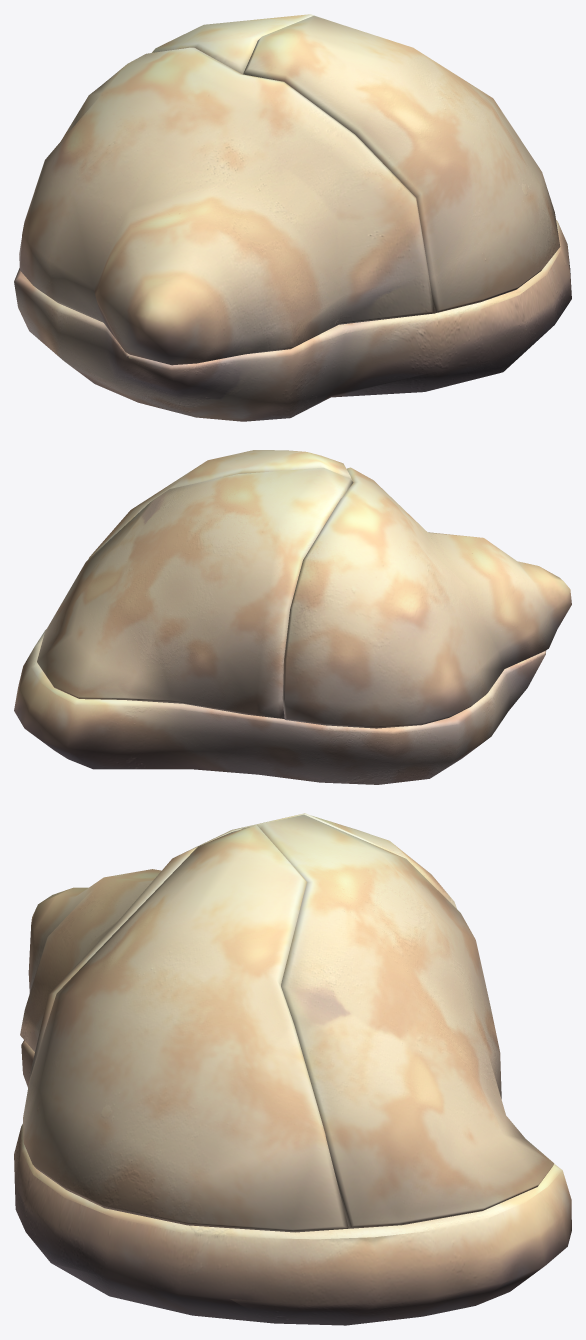
File: Shell.fbx
3 views of the same model, one above another, from view 1: azimuth 30°, elevation 25°; view 2: azimuth 150°, elevation 25°; view 3: azimuth 270°, elevation 25° (orthographic). The views are drawn at different scales.
Parts seen in each view (by area): view 1: Shell_3, Shell_2, Shell_1, Shell_4; view 2: Shell_4, Shell_3, Shell_1, Shell_2; view 3: Shell_2, Shell_4, Shell_1, Shell_3.
Part boxes in pixels (x1,y1,x2,y2): Shell_3: (19, 47, 434, 365); Shell_2: (243, 15, 560, 313); Shell_1: (14, 220, 571, 421); Shell_4: (152, 14, 322, 74); Shell_4: (37, 467, 353, 718); Shell_3: (282, 467, 571, 728); Shell_1: (14, 629, 546, 784); Shell_2: (88, 450, 352, 559); Shell_2: (23, 825, 348, 1232); Shell_4: (241, 814, 554, 1228); Shell_1: (14, 1040, 571, 1325); Shell_3: (20, 813, 456, 1080).
Size of the model in its own units: 117 by 68.89 by 98.68.
